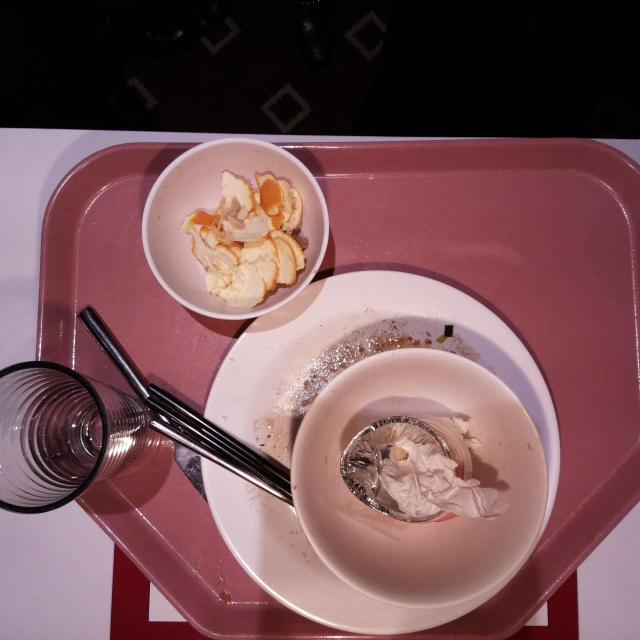Orange-peel: (185, 172, 299, 308)
